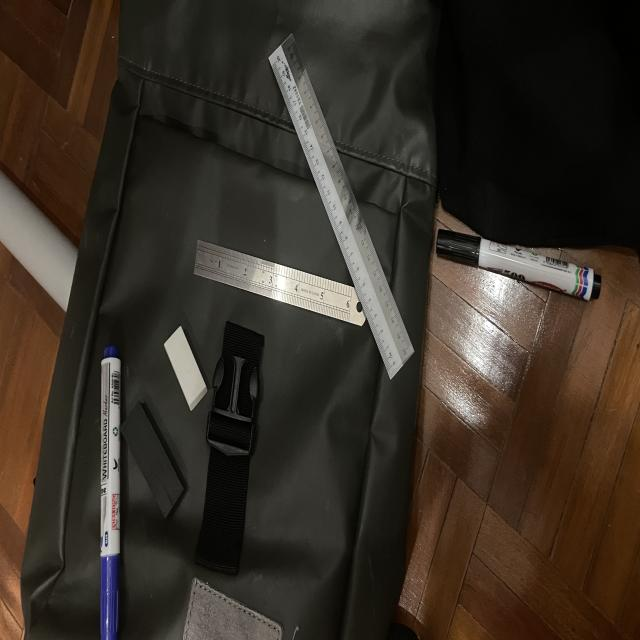eraser: (122, 402, 186, 518), (164, 326, 207, 410)
marker: (436, 229, 601, 300), (99, 345, 122, 640)
ruler: (269, 34, 414, 378), (194, 240, 366, 326)
